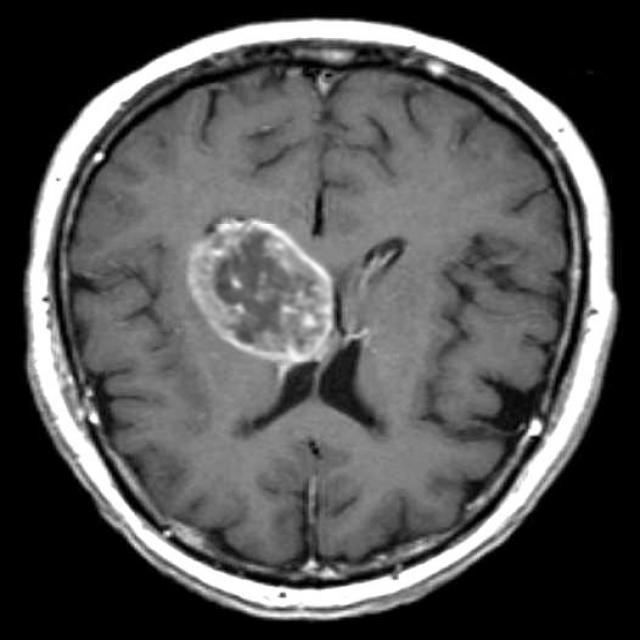Tumor: (194, 225, 337, 358)
